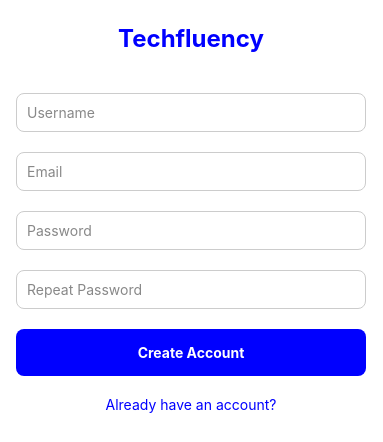
Test: Register Component › deve mostrar erro se senhas forem diferentes
The width and height of the screenshot is (383, 442).
Type "Senha123!" into the password field with placeholder "Password" at (191, 230), box [16,210,366,250]
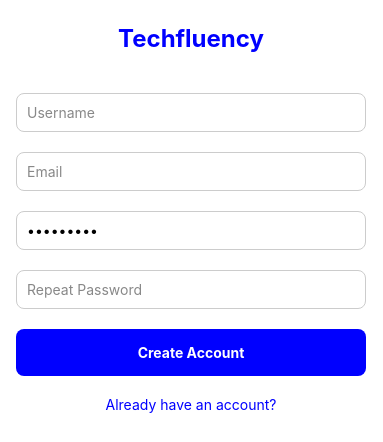
Type "Diferente123!" into the password field with placeholder "Repeat Password" at (191, 289), box [16,270,366,308]
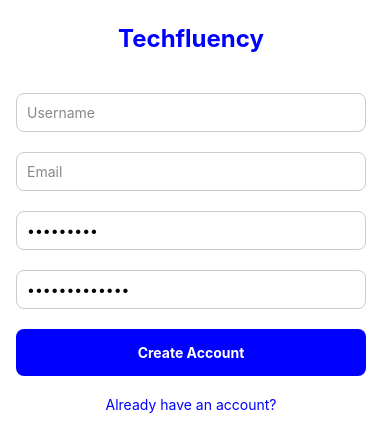
Click the text "Create Account" at (191, 352), box [138,344,244,360]
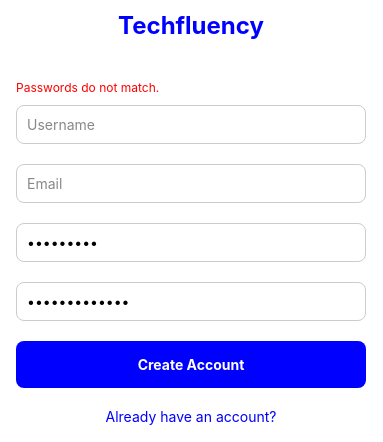
Check: the text "Passwords do not match." is shown, box [16,80,159,95]
